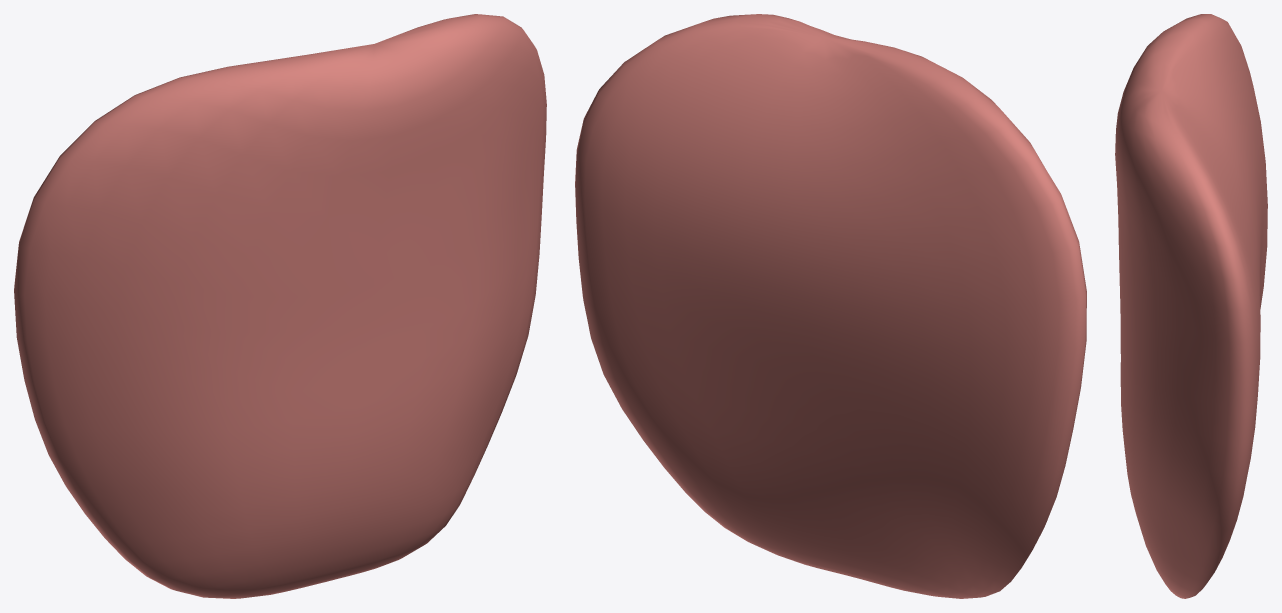
The picture shows the model from 3 angles, left to right: view 1: azimuth 30°, elevation 25°; view 2: azimuth 150°, elevation 25°; view 3: azimuth 270°, elevation 25°; orthographic projection. The views are drawn at different scales.
Parts seen in each view (by area): view 1: ZA_81011a2486c2d8eb; view 2: ZA_81011a2486c2d8eb; view 3: ZA_81011a2486c2d8eb.
Boxes of the visible parts, x1,y1,x2,y2 form: ZA_81011a2486c2d8eb: (14, 14, 546, 598); ZA_81011a2486c2d8eb: (575, 14, 1086, 598); ZA_81011a2486c2d8eb: (1115, 14, 1267, 598).
Bounding box in the file's own units: 0.0236 × 0.0232 × 0.00647.
